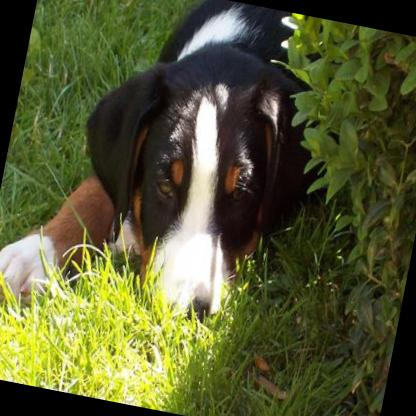Appenzeller: (0, 0, 356, 352)
